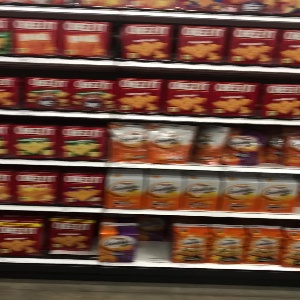void: (135, 216, 174, 262)
